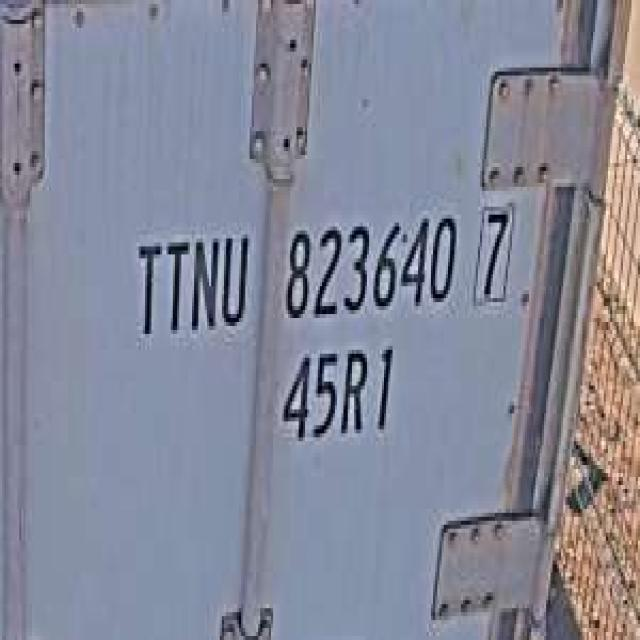dv: (469, 191, 516, 310)
owner: (128, 214, 252, 346)
serial: (277, 199, 459, 326)
size: (273, 338, 401, 453)
